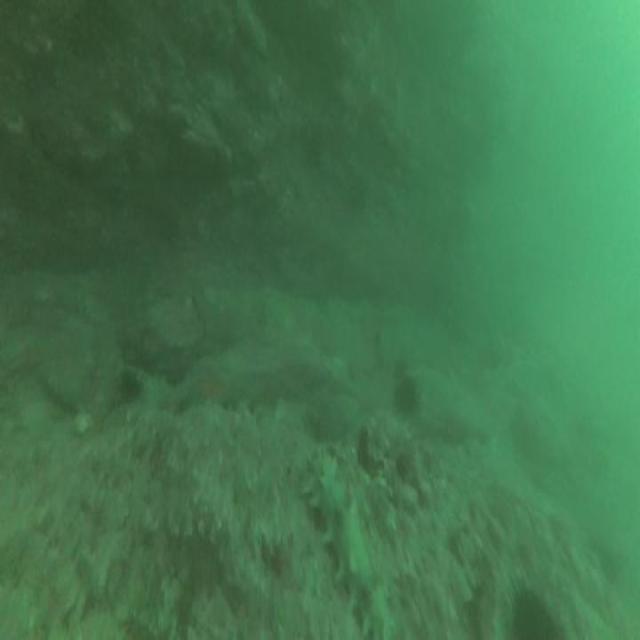echinus: (392, 373, 420, 420)
holothurian: (305, 452, 395, 637)
starfish: (178, 360, 242, 410)
